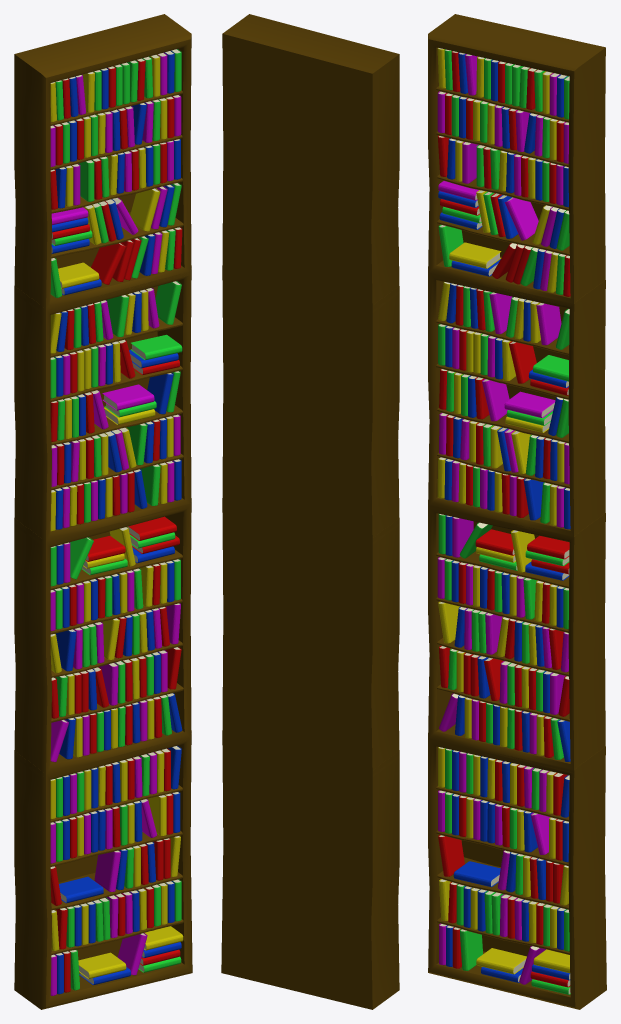
Rendered from bookshelf_a.fbx.
The picture shows the model from 3 angles, left to right: view 1: azimuth 30°, elevation 25°; view 2: azimuth 150°, elevation 25°; view 3: azimuth 330°, elevation 25°; orthographic projection.
Parts seen in each view (by area): view 1: books1, shelf; view 2: shelf; view 3: books1, shelf.
Part boxes in pixels (<box>): books1: <box>50,49,183,995</box>; shelf: <box>14,14,192,1009</box>; shelf: <box>221,14,399,1009</box>; books1: <box>437,48,570,994</box>; shelf: <box>428,14,606,1009</box>.
Bounding box in the file's own units: 94.85 × 563 × 31.41.
